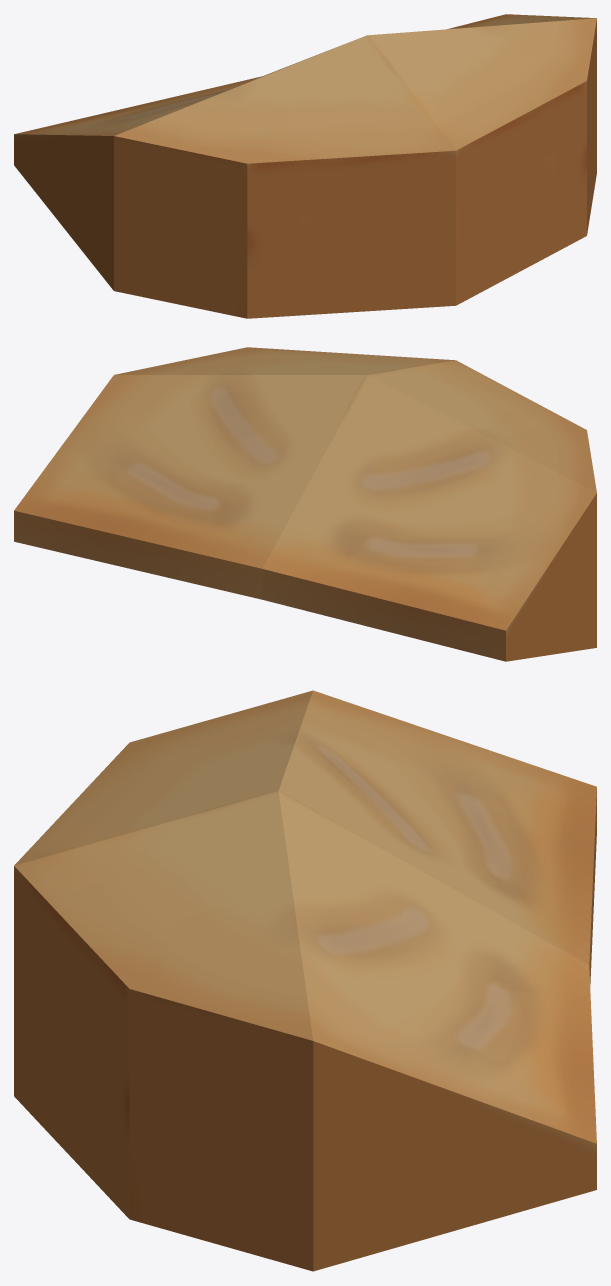
File: DUMPLING.fbx
3 renders of one model, top to bottom at view 1: azimuth 30°, elevation 25°; view 2: azimuth 150°, elevation 25°; view 3: azimuth 270°, elevation 25°, orthographic. The views are drawn at different scales.
Parts seen in each view (by area): view 1: Cube; view 2: Cube; view 3: Cube.
Part boxes in pixels (x1,y1,x2,y2): Cube: (14, 14, 596, 318); Cube: (14, 347, 596, 661); Cube: (14, 690, 596, 1271).
Bounding box in the file's own units: 6.74 × 3.05 × 4.65.
